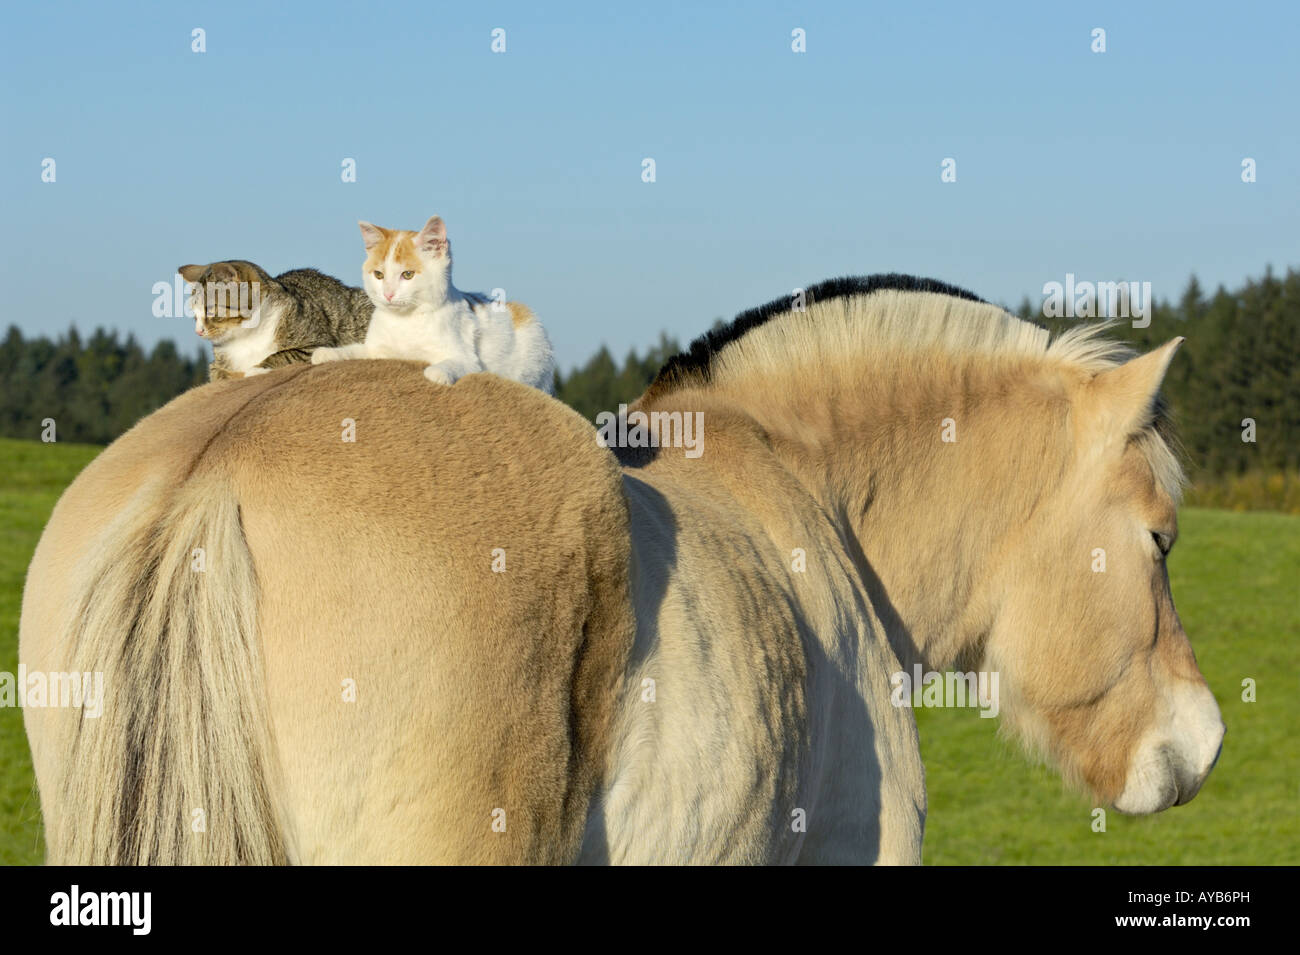Cat: (333, 199, 550, 378), (128, 217, 343, 377)
Horse: (61, 358, 1272, 821)
